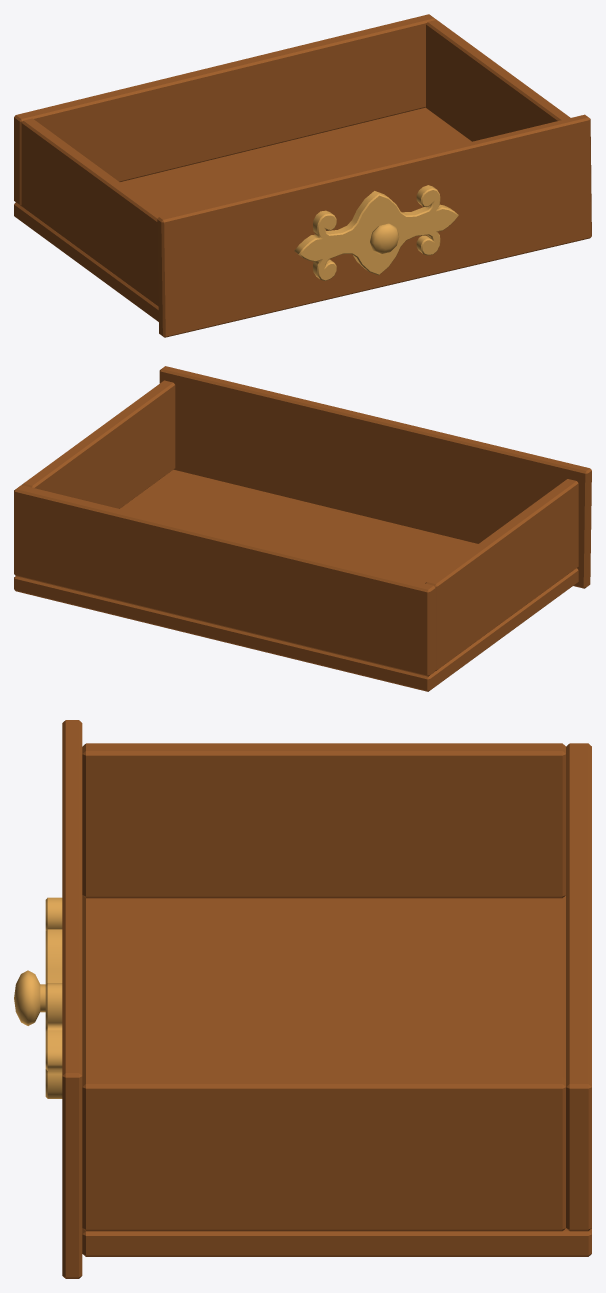
Rendered from Nightstand2_2.fbx.
The picture shows the model from 3 angles, top to bottom: view 1: azimuth 30°, elevation 25°; view 2: azimuth 150°, elevation 25°; view 3: azimuth 270°, elevation 25°; orthographic projection. The views are drawn at different scales.
Parts seen in each view (by area): view 1: Nightstand2_2; view 2: Nightstand2_2; view 3: Nightstand2_2.
Part boxes in pixels (x1,y1,x2,y2): Nightstand2_2: (14, 14, 591, 337); Nightstand2_2: (14, 366, 591, 691); Nightstand2_2: (14, 720, 591, 1278).
Size of the model in its own units: 0.6855 by 0.1865 by 0.4719.
